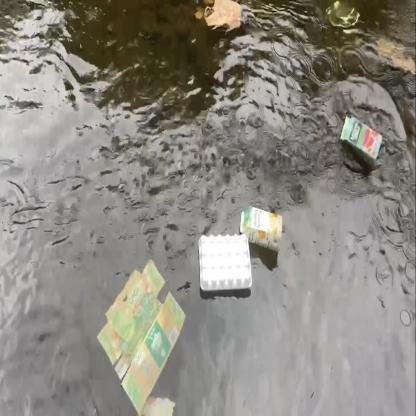trash: (95, 253, 189, 416), (195, 230, 255, 292), (238, 202, 288, 258), (338, 112, 386, 168), (197, 0, 246, 34), (323, 0, 364, 36)
